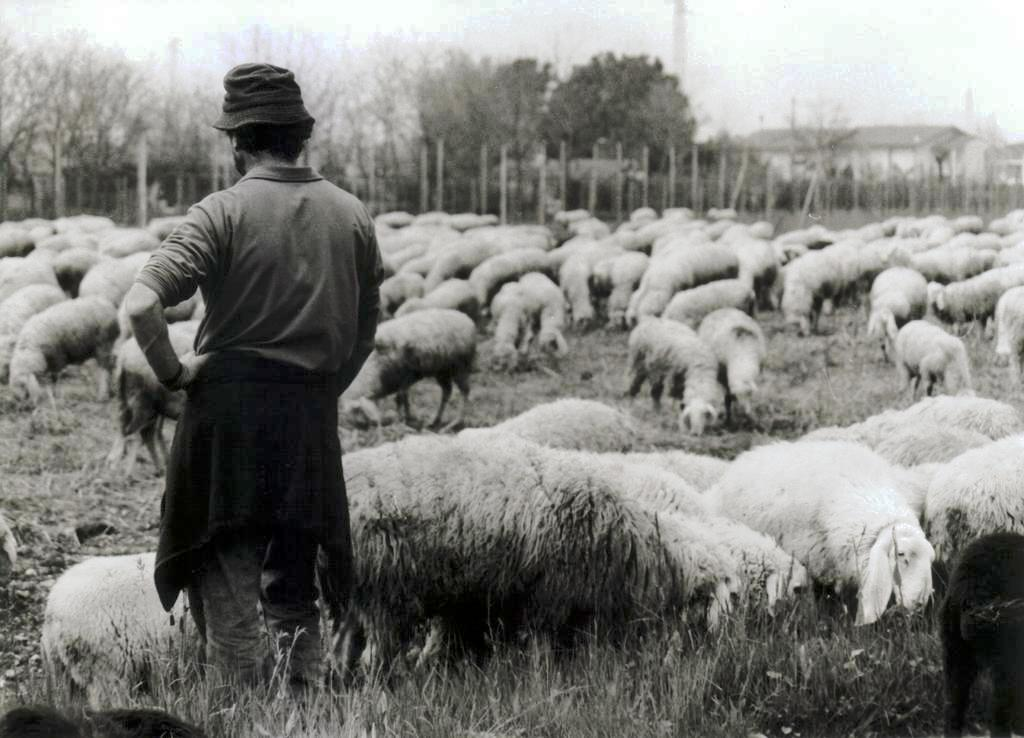Sheep: (302, 428, 751, 654), (476, 432, 832, 639), (682, 440, 946, 631), (42, 550, 190, 710), (921, 414, 1024, 616), (343, 308, 478, 434), (801, 398, 1018, 468), (8, 295, 120, 418), (111, 327, 194, 474), (624, 315, 721, 430), (467, 397, 640, 453), (627, 250, 742, 331), (696, 306, 768, 426), (490, 274, 568, 379), (773, 247, 857, 334), (888, 320, 974, 402), (928, 266, 1014, 338), (868, 266, 928, 354), (557, 236, 608, 332), (662, 278, 754, 329)
